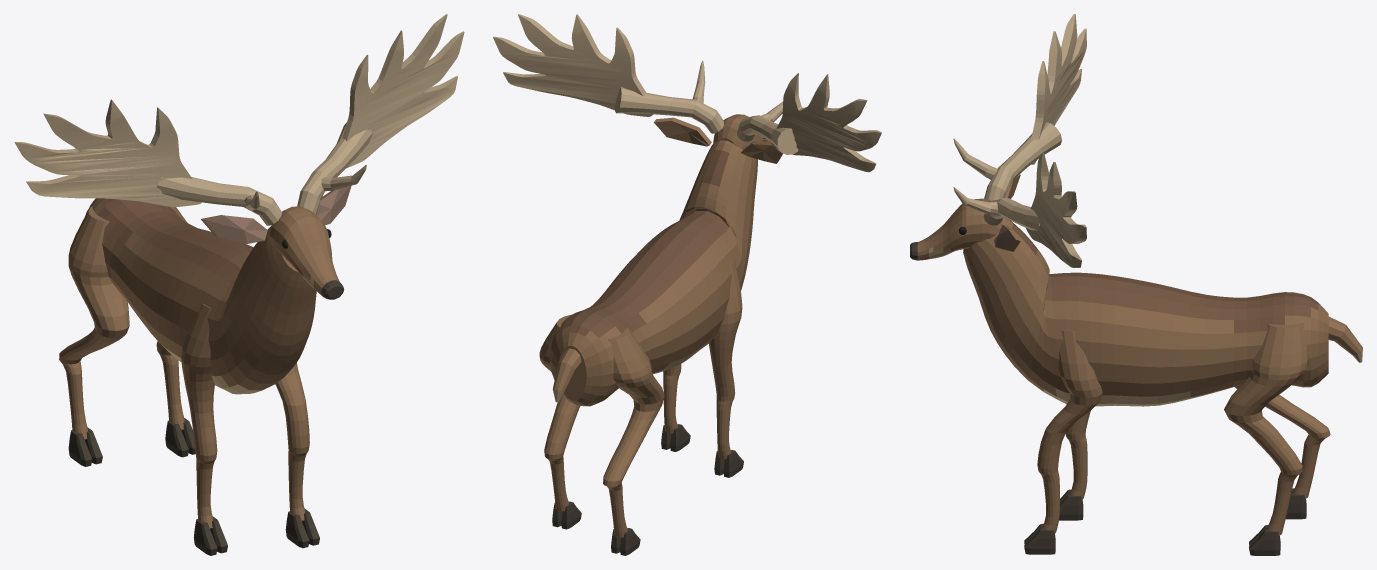
The picture shows the model from 3 angles, left to right: view 1: azimuth 30°, elevation 25°; view 2: azimuth 150°, elevation 25°; view 3: azimuth 270°, elevation 25°; orthographic projection. The views are drawn at different scales.
Visible parts, largest first — view 1: continuous-trunk-withers-neck, left-curved-palmated-antler, right-curved-palmated-antler, left-hindleg, left-foreleg, narrow-cervid-head, right-foreleg, left-pedicle-curved-beam, right-pedicle-curved-beam, left-leaf-ear, right-hindleg, right-fore-cloven-hoof (+4 smaller); view 2: continuous-trunk-withers-neck, right-curved-palmated-antler, left-curved-palmated-antler, left-hindleg, left-foreleg, right-hindleg, right-pedicle-curved-beam, left-pedicle-curved-beam, right-leaf-ear, right-foreleg, small-tail, narrow-cervid-head (+5 smaller); view 3: continuous-trunk-withers-neck, right-hindleg, right-foreleg, right-curved-palmated-antler, left-curved-palmated-antler, narrow-cervid-head, left-hindleg, left-pedicle-curved-beam, left-foreleg, right-pedicle-curved-beam, small-tail, right-fore-cloven-hoof (+2 smaller).
Boxes of the visible parts, x1,y1,x2,y2 form: continuous-trunk-withers-neck: (85, 198, 316, 394); left-curved-palmated-antler: (14, 99, 201, 206); right-curved-palmated-antler: (342, 14, 464, 167); left-hindleg: (59, 206, 129, 439); left-foreleg: (181, 303, 217, 528); narrow-cervid-head: (269, 206, 339, 298); right-foreleg: (275, 362, 309, 520); left-pedicle-curved-beam: (157, 177, 281, 225); right-pedicle-curved-beam: (297, 122, 372, 214); left-leaf-ear: (201, 215, 267, 243); right-hindleg: (156, 206, 187, 429); right-fore-cloven-hoof: (285, 509, 319, 548); continuous-trunk-withers-neck: (549, 140, 757, 406); right-curved-palmated-antler: (493, 14, 653, 116); left-curved-palmated-antler: (771, 73, 881, 172); left-hindleg: (603, 327, 664, 537); left-foreleg: (709, 259, 742, 459); right-hindleg: (539, 315, 580, 511); right-pedicle-curved-beam: (614, 87, 724, 133); left-pedicle-curved-beam: (737, 115, 798, 154); right-leaf-ear: (654, 117, 711, 146); right-foreleg: (663, 364, 681, 433); small-tail: (552, 348, 581, 402); narrow-cervid-head: (713, 114, 769, 149); continuous-trunk-withers-neck: (963, 217, 1328, 406); right-hindleg: (1224, 323, 1308, 535); right-foreleg: (1037, 330, 1102, 533); right-curved-palmated-antler: (1026, 153, 1086, 267); left-curved-palmated-antler: (1031, 14, 1086, 164); narrow-cervid-head: (914, 198, 1002, 260); left-hindleg: (1234, 385, 1330, 498); left-pedicle-curved-beam: (984, 122, 1061, 200); left-foreleg: (1065, 411, 1090, 499); right-pedicle-curved-beam: (983, 197, 1039, 230); small-tail: (1328, 316, 1362, 362); right-fore-cloven-hoof: (1024, 523, 1055, 554).
Size of the model in its own units: 3.25 by 3.32 by 3.11.
